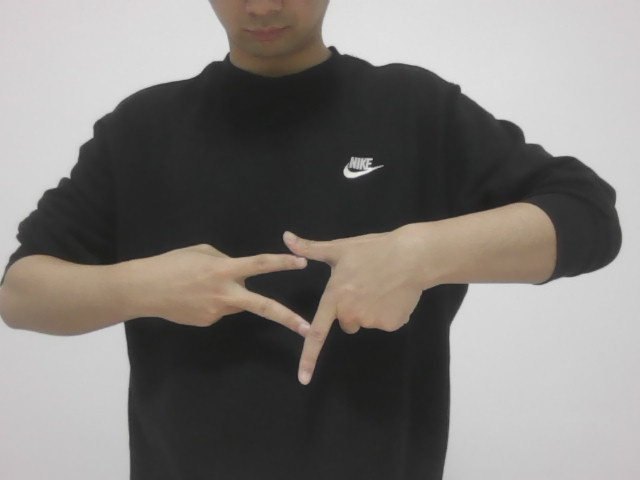introduce: (152, 216, 422, 387)
